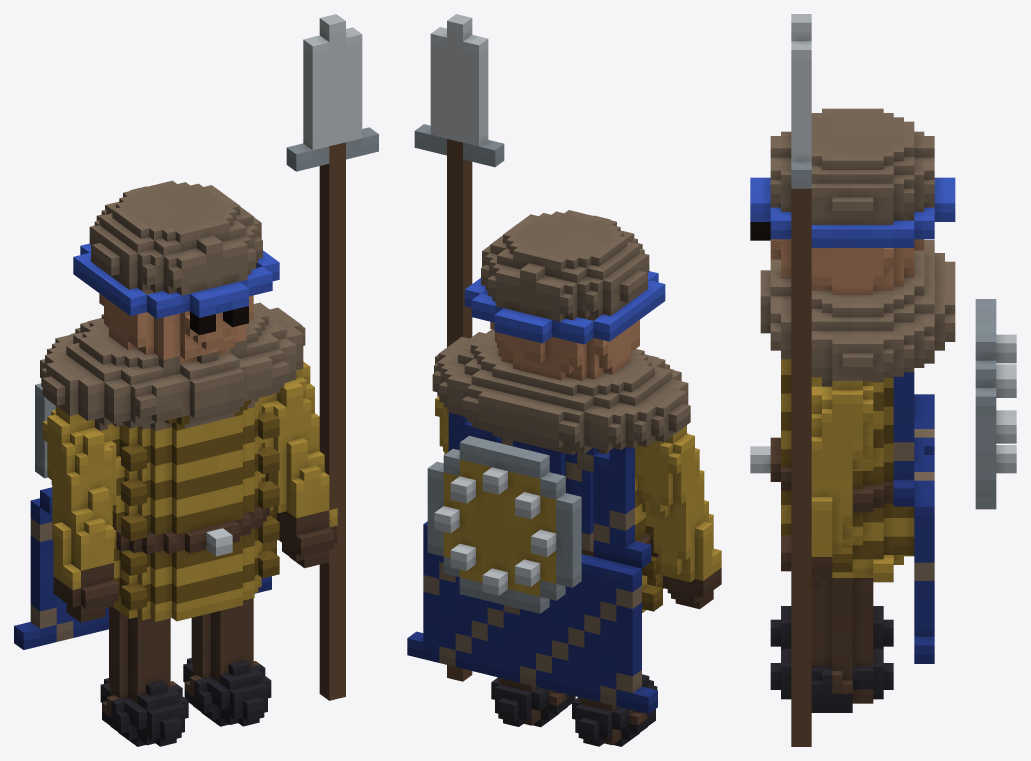
The model's file is u_trappeur__garde.glb.
3 renders of one model, left to right at view 1: azimuth 30°, elevation 25°; view 2: azimuth 150°, elevation 25°; view 3: azimuth 270°, elevation 25°, orthographic. The views are drawn at different scales.
Visible parts, largest first — view 1: trappeur_body, trappeur_weapon; view 2: trappeur_body, trappeur_weapon; view 3: trappeur_body, trappeur_weapon.
Boxes of the visible parts, x1,y1,x2,y2 form: trappeur_body: (14,180,337,746); trappeur_weapon: (286,14,378,700); trappeur_body: (407,210,721,746); trappeur_weapon: (414,14,504,681); trappeur_body: (750,108,1016,712); trappeur_weapon: (791,14,811,746).
Size of the model in its own units: 0.925 by 1.98 by 0.65.
